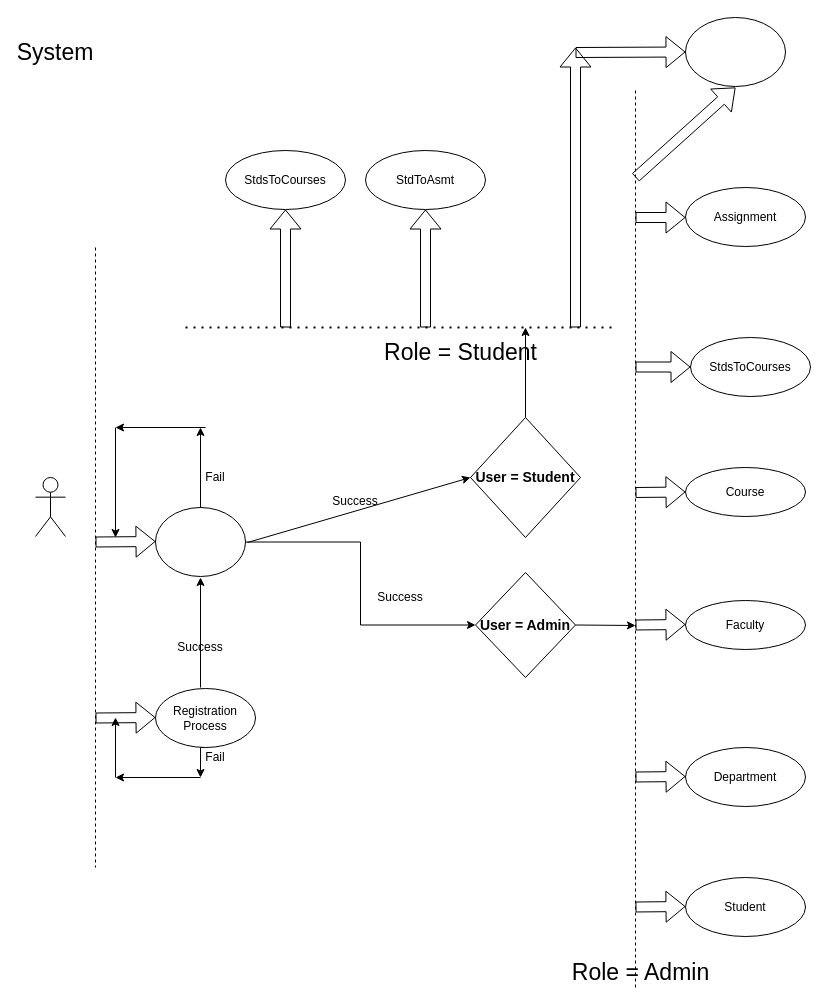
Some shapes in this 828 by 1006 pixel diagram are drawn without their labels. The centre of each missing label's shape, as x and y in pixels:
"Actor" belongs at pixel 50 506.
"Home" belongs at pixel 735 51.
"Sign-In Process" belongs at pixel 200 541.
